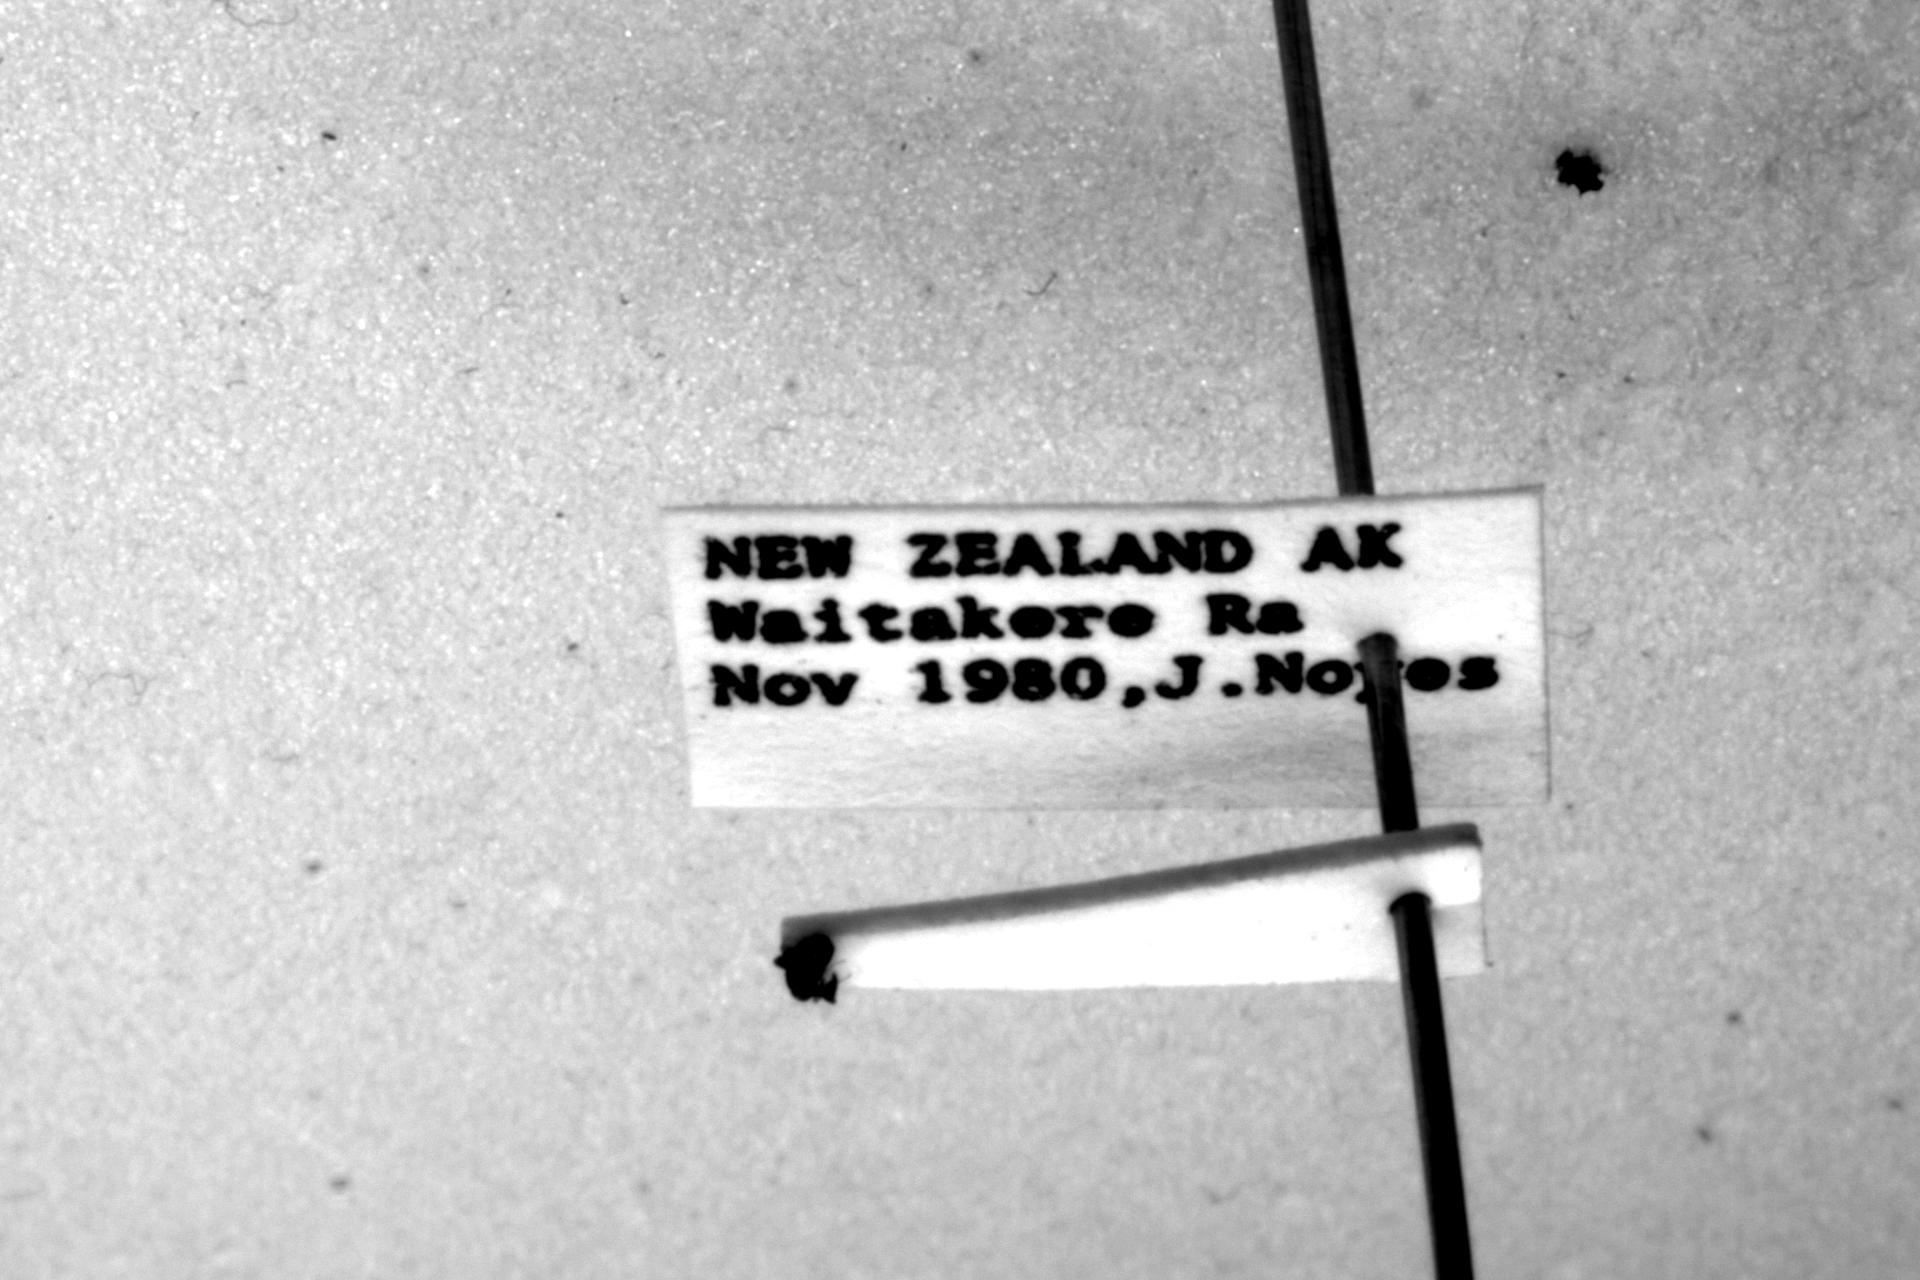typed_label: (664, 491, 1549, 810)
